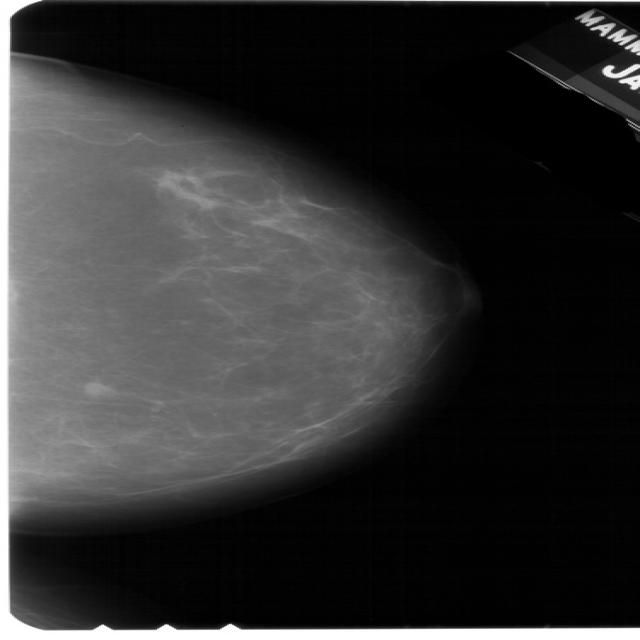tumour: (80, 379, 111, 394)
